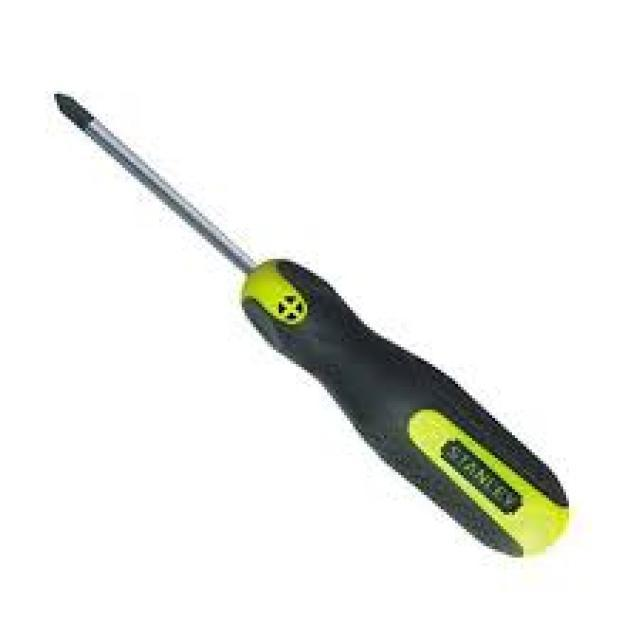screwdriver: (51, 87, 572, 570)
